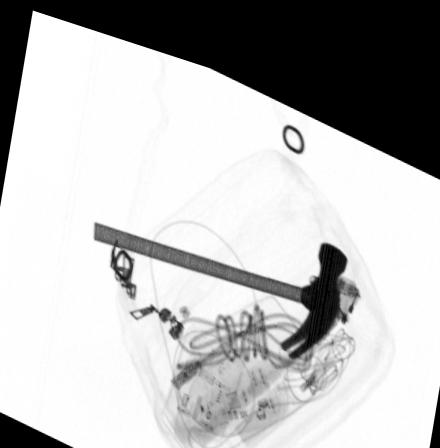Hammer: (92, 214, 347, 342)
